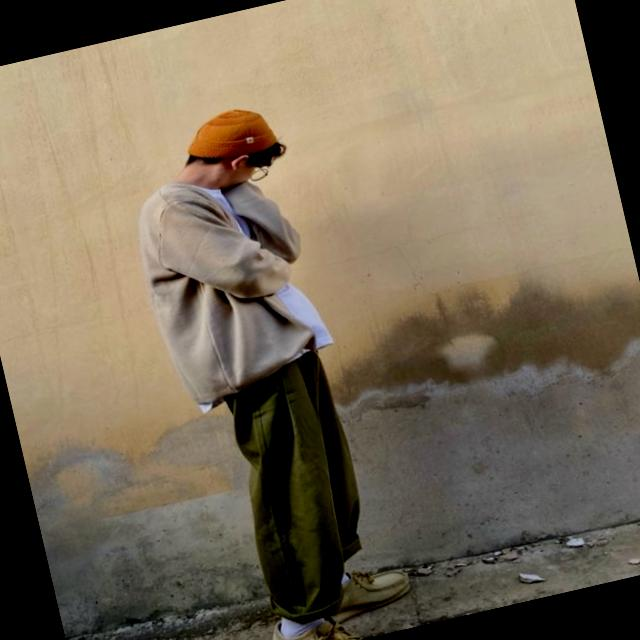cardigan: (126, 157, 330, 416)
cottonpants: (211, 336, 386, 628)
